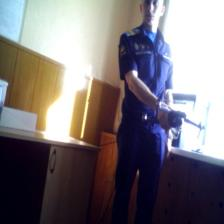drone: (137, 91, 212, 150)
